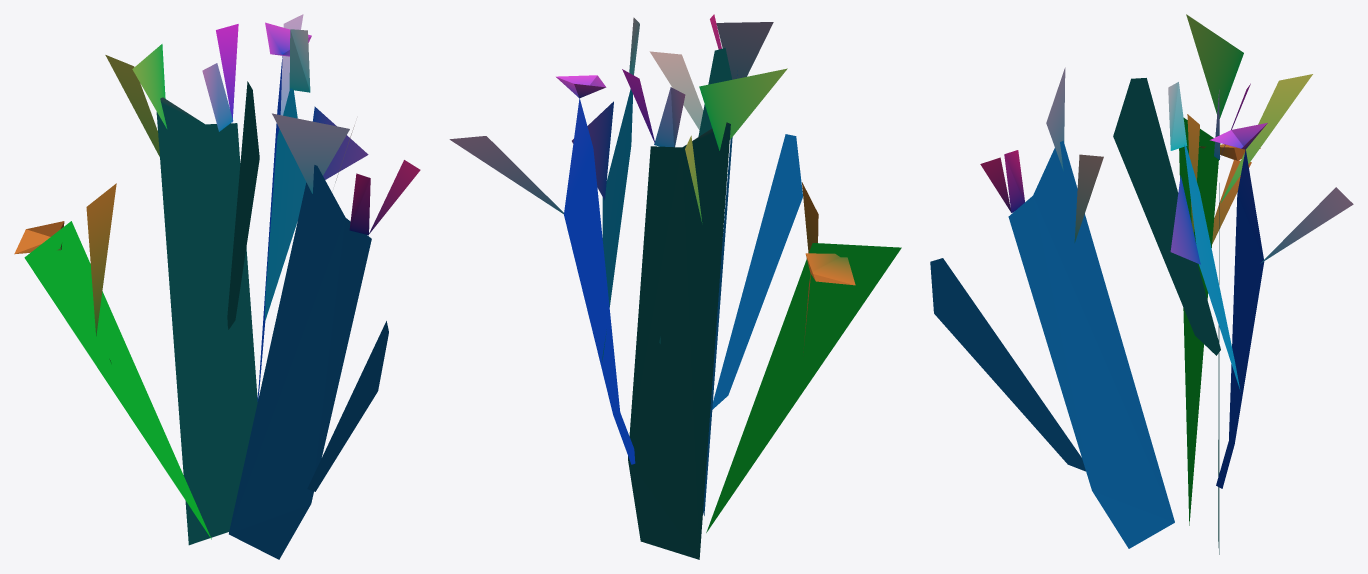
The model's file is Nordic_Coastal_Groundcover_vlqkdeaja_Mid_vlqkdeaja_VarA_LOD3.fbx.
3 renders of one model, left to right at view 1: azimuth 30°, elevation 25°; view 2: azimuth 150°, elevation 25°; view 3: azimuth 270°, elevation 25°, orthographic. The views are drawn at different scales.
Parts seen in each view (by area): view 1: _bsb9_VarA_LOD5; view 2: _bsb9_VarA_LOD5; view 3: _bsb9_VarA_LOD5.
Part boxes in pixels (x1,y1,x2,y2): _bsb9_VarA_LOD5: [14, 14, 420, 559]; _bsb9_VarA_LOD5: [449, 14, 901, 559]; _bsb9_VarA_LOD5: [930, 14, 1353, 554].
Bounding box in the file's own units: 35.16 × 46.41 × 36.12.
